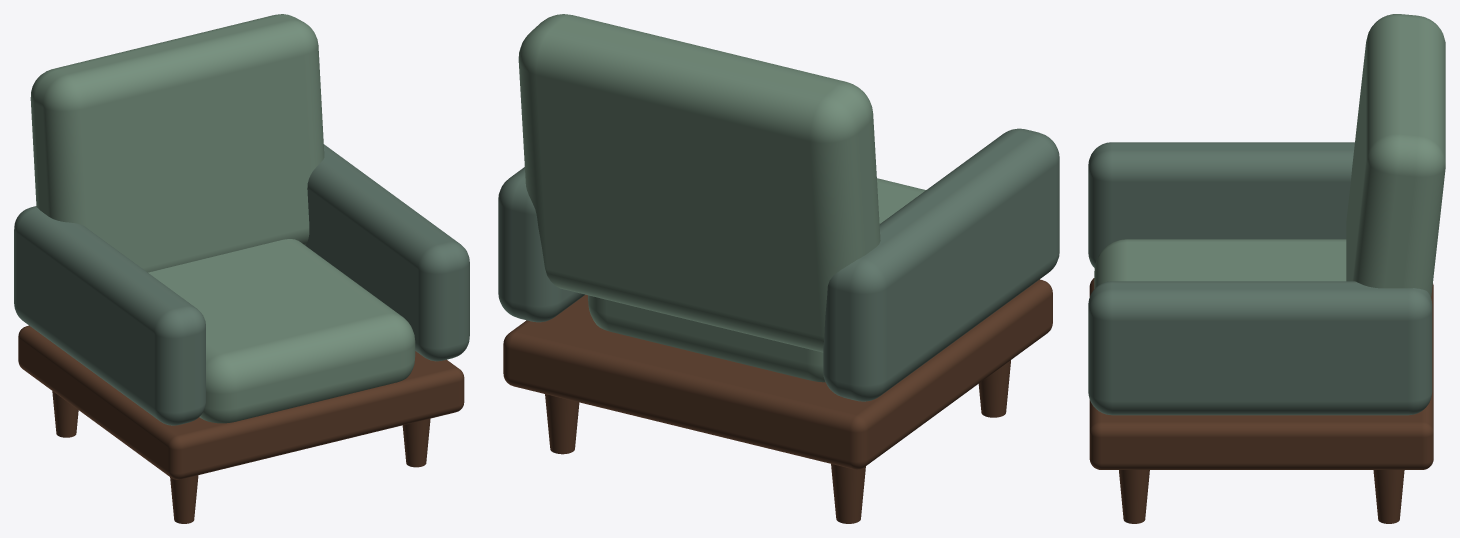
The model's file is luna-armchair.v1.render.glb.
The picture shows the model from 3 angles, left to right: view 1: azimuth 30°, elevation 25°; view 2: azimuth 150°, elevation 25°; view 3: azimuth 270°, elevation 25°; orthographic projection. The views are drawn at different scales.
Size of the model in its own units: 0.828 by 0.8955 by 0.7584.
